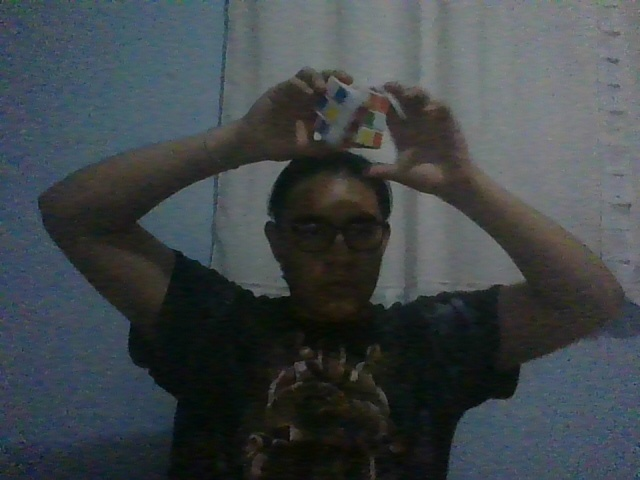rubik: (312, 75, 391, 150)
